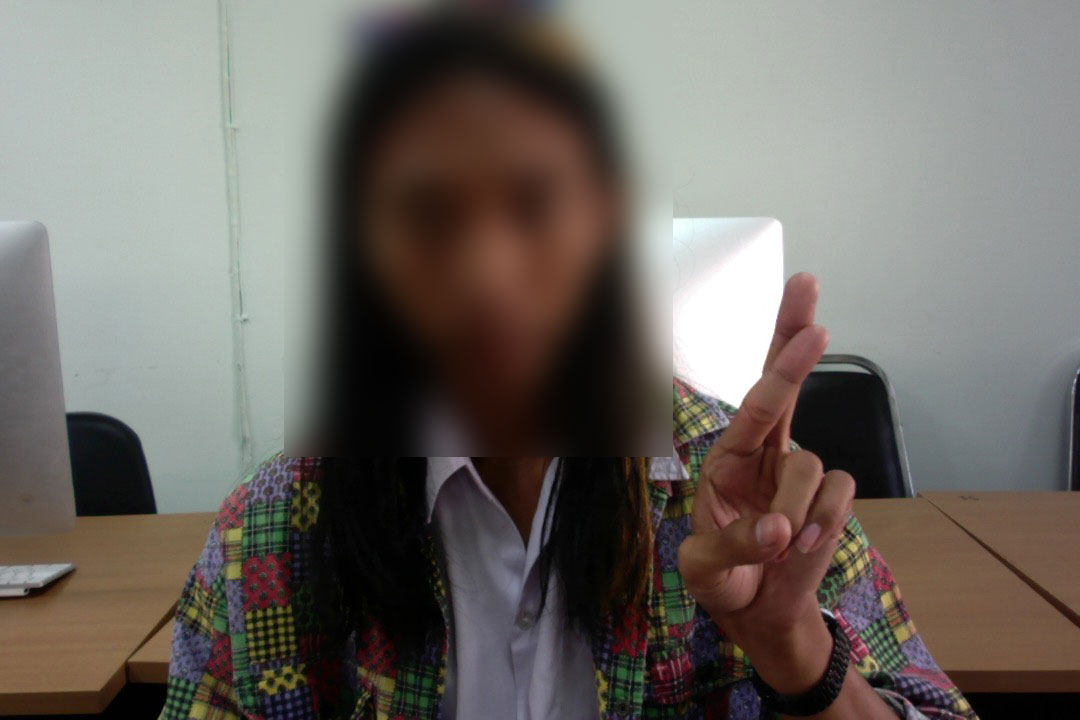rao: (671, 263, 861, 632)
